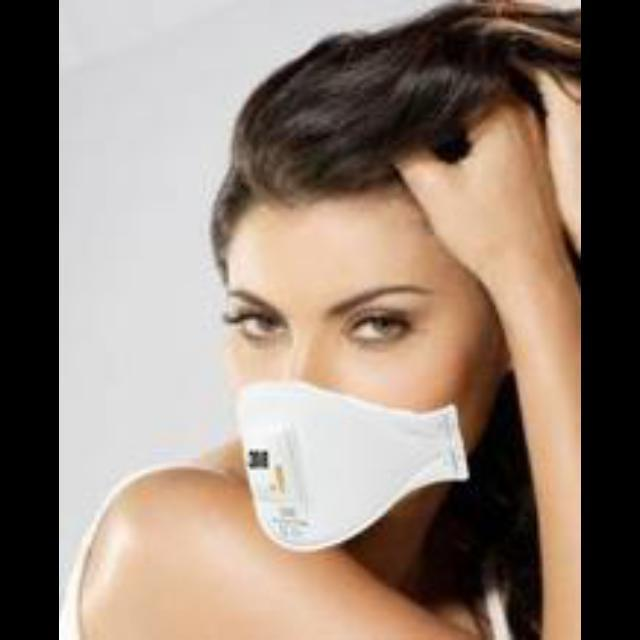suspicion: (198, 55, 554, 551)
